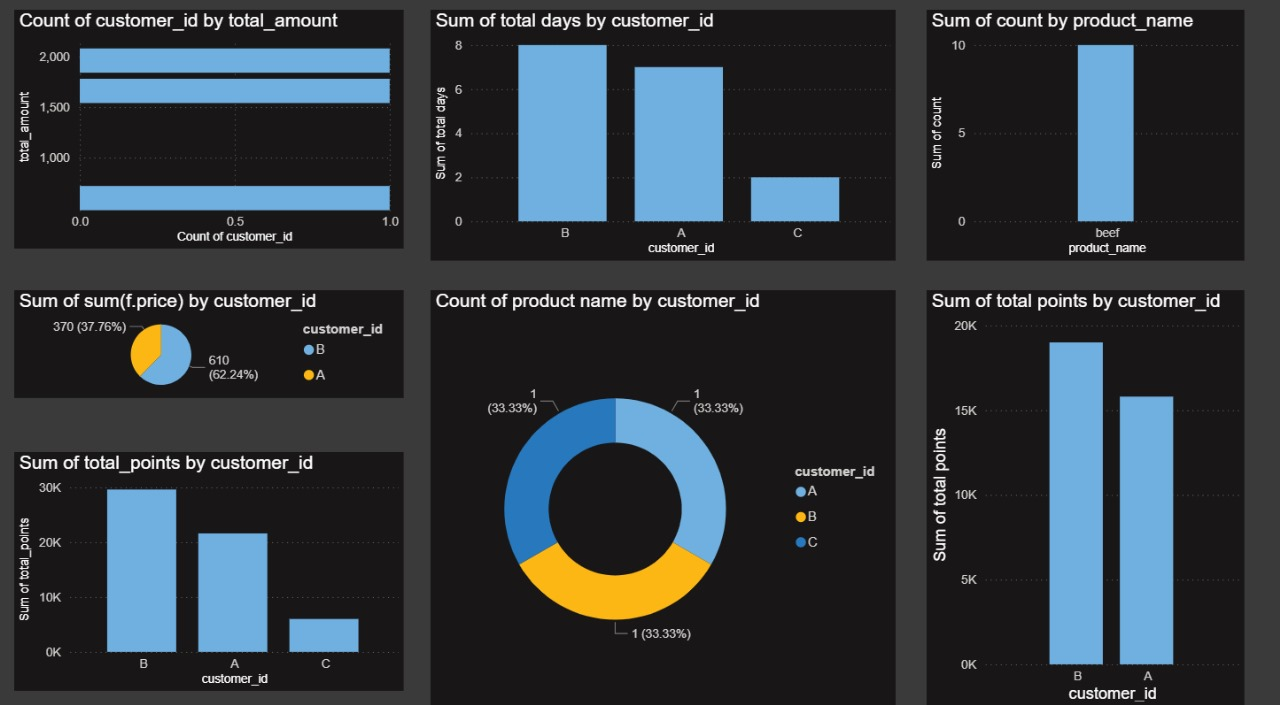

This screenshot's page, from the dashboard's own definition file:
{"tool":"powerbi","page":{"name":"Page 1","canvas":[1280,720],"ordinal":0},"visuals":[{"type":"clusteredBarChart","fields":{"Y":["CountNonNull(Query1.customer_id)"],"Category":["Query1.total_amount"]},"box":[23.3,28.2,386.1,237.3],"z":0},{"type":"lineStackedColumnComboChart","fields":{"Category":["Query2.customer_id"],"Y":["Sum(Query2.total_days)"]},"box":[436.7,28.2,461,249],"z":1000},{"type":"donutChart","fields":{"Category":["Query3.customer_id"],"Y":["CountNonNull(Query3.product_name)"]},"box":[436.7,306.4,461,413.4],"z":2000},{"type":"columnChart","fields":{"Category":["Query4.product_name"],"Y":["Sum(Query4.count(*))"]},"box":[927.9,28.2,315.1,249],"z":3000},{"type":"columnChart","fields":{"Category":["Query10.customer_id"],"Y":["Sum(Query10.total_points)"]},"box":[927.9,306.4,315.1,413.4],"z":4000},{"type":"actionButton","box":[0,0,100,40],"z":5000},{"type":"columnChart","fields":{"Category":["Query9.customer_id"],"Y":["Sum(Query9.total_points)"]},"box":[23.3,466.9,386.1,237.3],"z":6000},{"type":"pieChart","fields":{"Category":["Query8.count(s.product_id)","Query8.customer_id"],"Y":["Sum(Query8.sum(f.price))"]},"box":[23.3,306.4,386.1,107],"z":7000}]}

Visuals, with their boxes in screenshot pixels (x1, y1, x2, y2), scaled from the page's 1280x720 canvas onto the 1280x705 screenshot:
clusteredBarChart - CountNonNull(Query1.customer_id) x Query1.total_amount: l=23, t=28, r=409, b=260
lineStackedColumnComboChart - Query2.customer_id x Sum(Query2.total_days): l=437, t=28, r=898, b=271
donutChart - Query3.customer_id x CountNonNull(Query3.product_name): l=437, t=300, r=898, b=704
columnChart - Query4.product_name x Sum(Query4.count(*)): l=928, t=28, r=1243, b=271
columnChart - Query10.customer_id x Sum(Query10.total_points): l=928, t=300, r=1243, b=704
actionButton: l=0, t=0, r=100, b=39
columnChart - Query9.customer_id x Sum(Query9.total_points): l=23, t=457, r=409, b=690
pieChart - Query8.count(s.product_id) x Query8.customer_id: l=23, t=300, r=409, b=405
